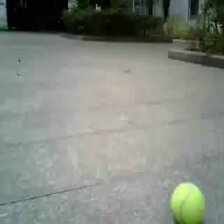tennis: (169, 183, 204, 224)
